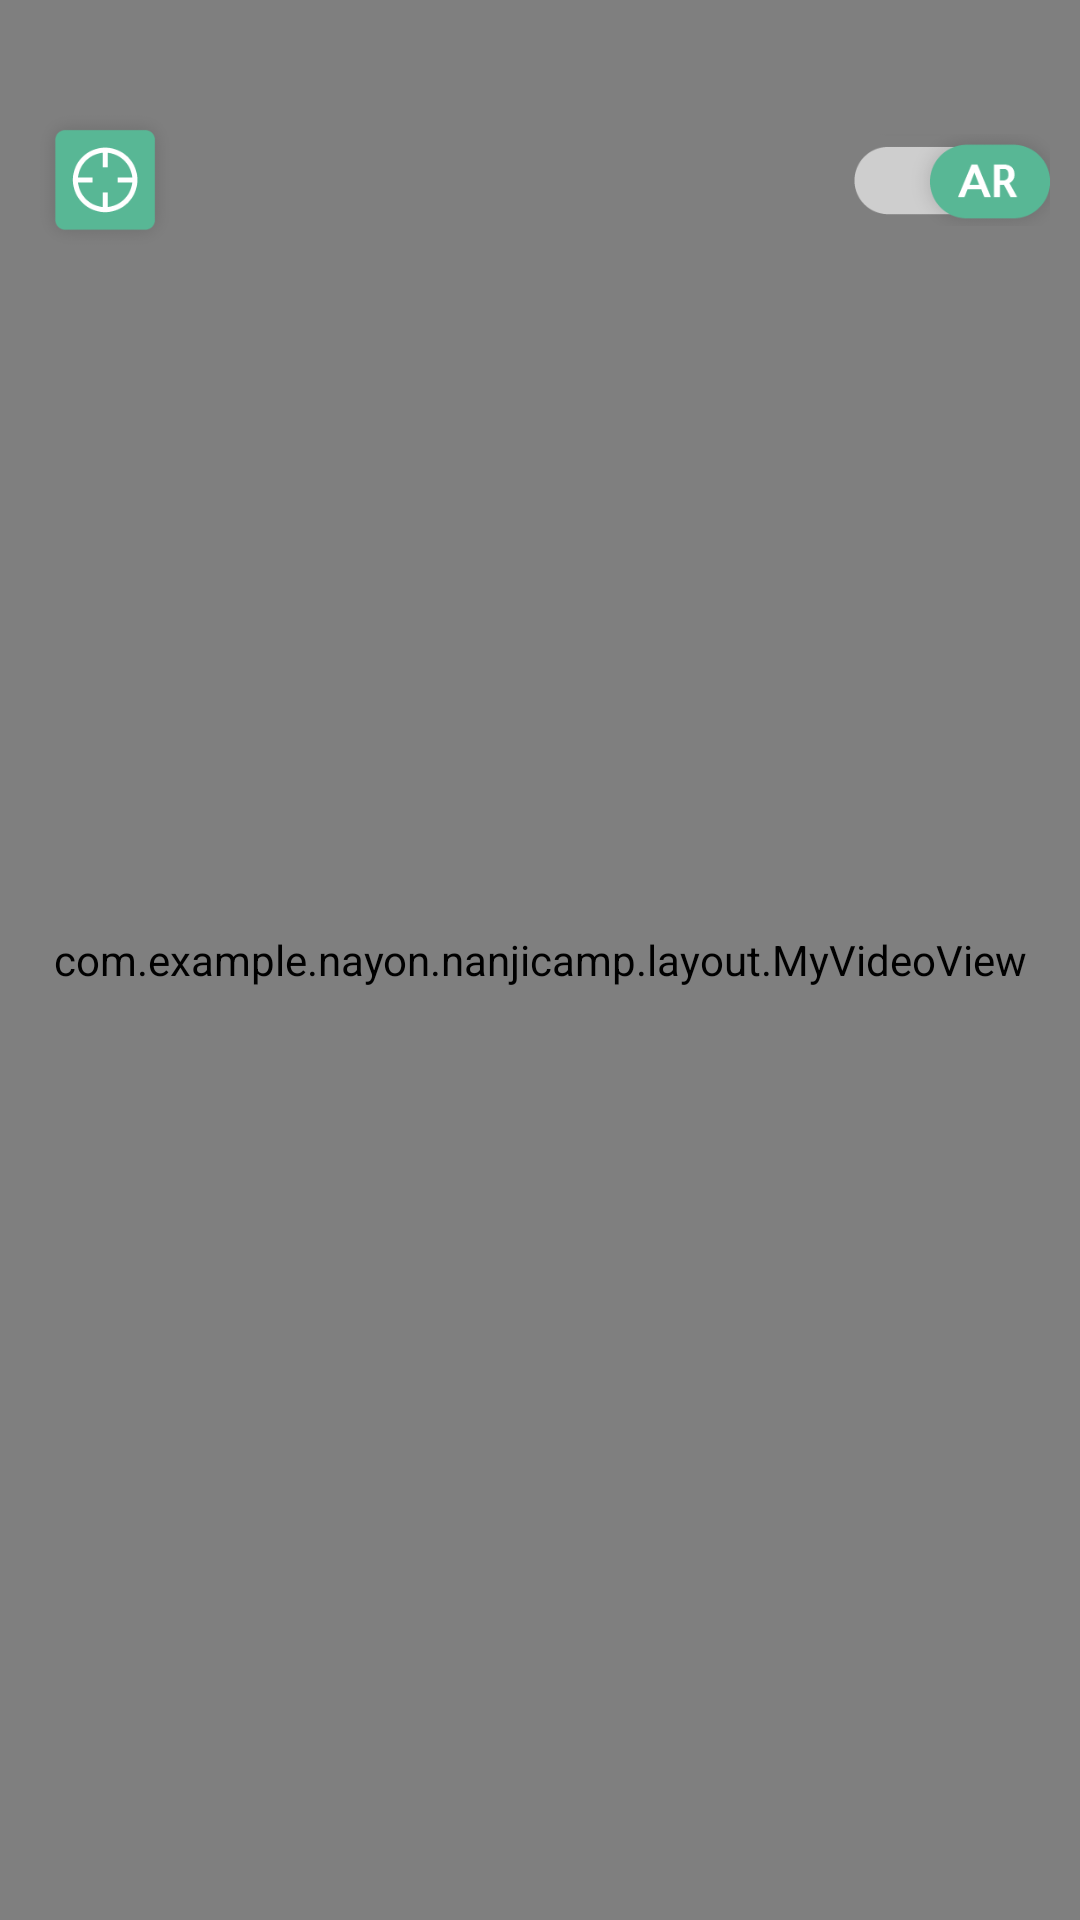

Named icons in this screenshot (1080w x 1920h) and their bounding boxes, [left=x1, top=y1, right=x2, bottom=y2]:
ar gps: [left=55, top=130, right=155, bottom=230]
ar switch on: [left=854, top=145, right=1050, bottom=218]
